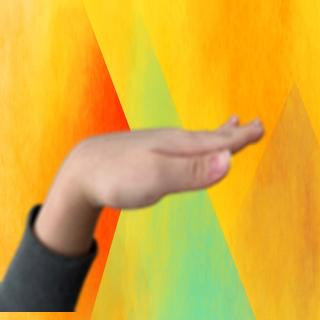Wait: (32, 110, 269, 228)
